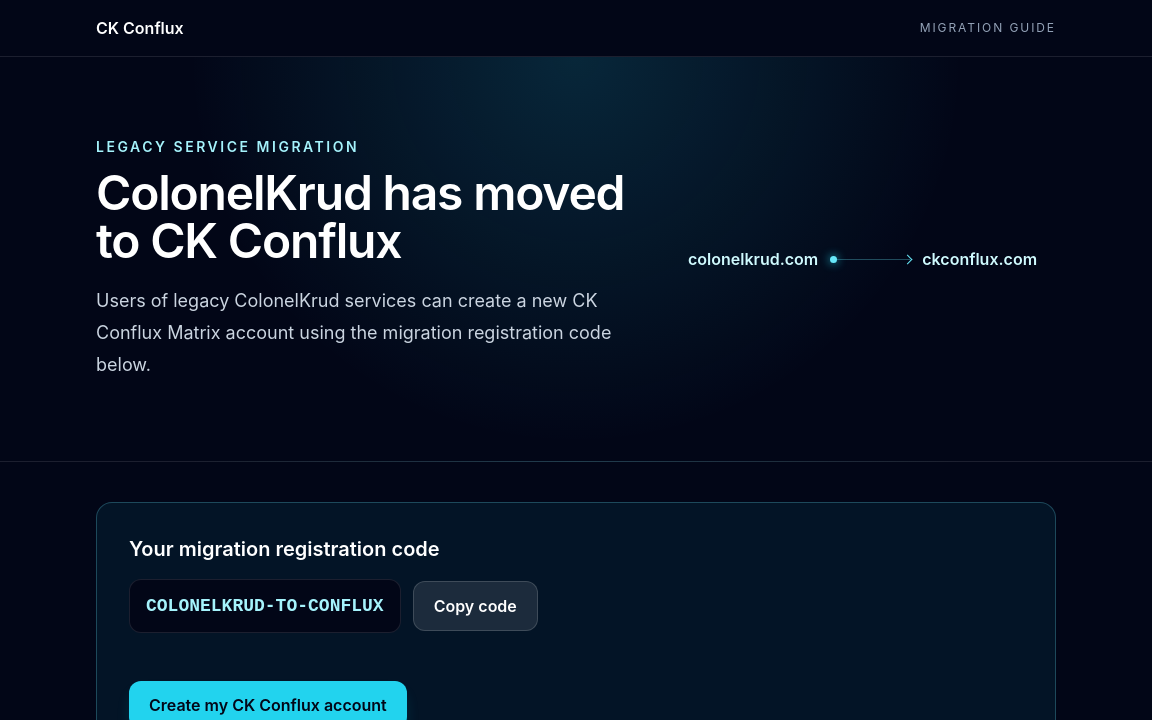
legacy migration campaign › copies the campaign token with accessible confirmation
Click the button with aria-label "Copy migration registration code": [475, 606] box top-left (413, 581), bottom-right (538, 631)
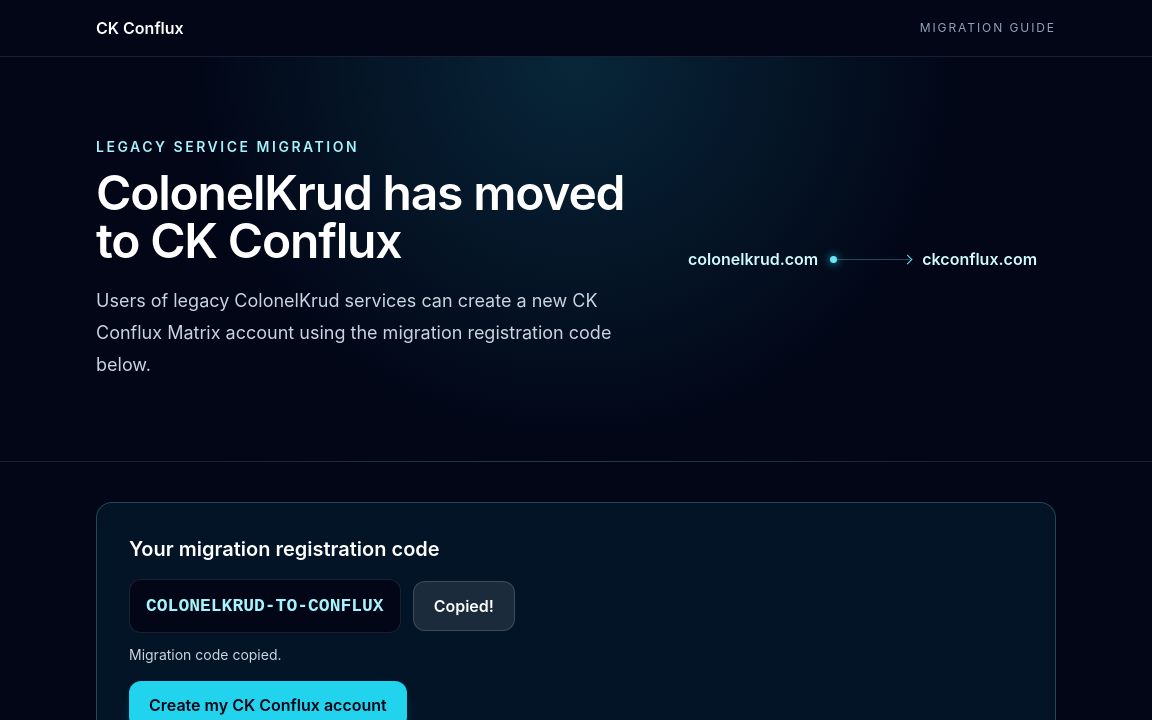
expect the text "Migration code copied." is shown: met, box top-left (129, 646), bottom-right (282, 663)
